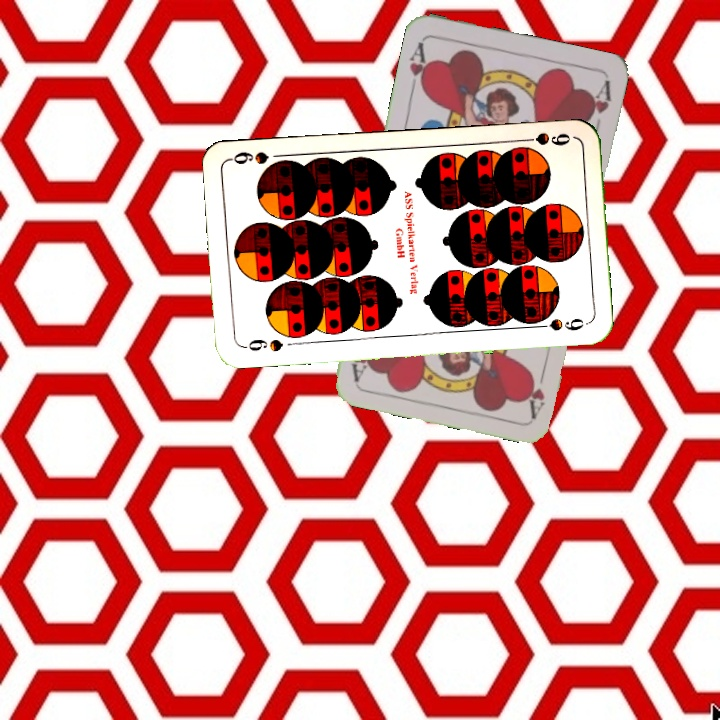HA: (405, 37, 433, 97), (522, 360, 549, 419)
S9: (516, 128, 576, 156), (238, 335, 285, 354)
